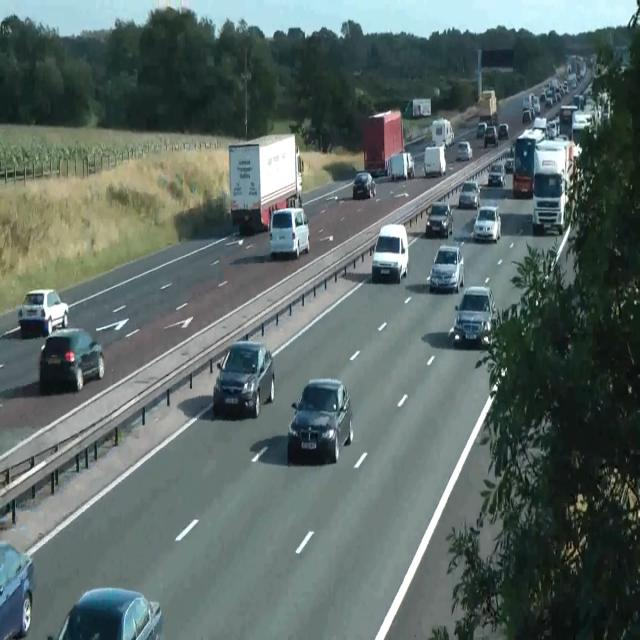bus: (47, 587, 162, 639), (287, 377, 353, 463), (213, 341, 275, 418), (39, 327, 105, 392), (0, 540, 34, 639), (17, 288, 69, 337), (428, 244, 464, 294), (425, 201, 453, 237), (352, 171, 376, 199), (458, 179, 480, 209), (488, 162, 506, 186), (456, 140, 472, 161), (406, 152, 414, 178), (498, 122, 508, 140), (477, 122, 487, 138), (504, 158, 514, 172)
jeep: (453, 284, 496, 346), (371, 222, 409, 283), (268, 206, 310, 259), (532, 169, 566, 234), (473, 204, 501, 242), (483, 124, 498, 148)
minibus: (228, 132, 304, 234), (531, 138, 579, 235), (360, 108, 404, 177), (512, 116, 548, 198), (386, 151, 414, 181), (478, 89, 498, 127), (430, 118, 454, 148), (423, 145, 445, 177), (402, 98, 431, 119)
